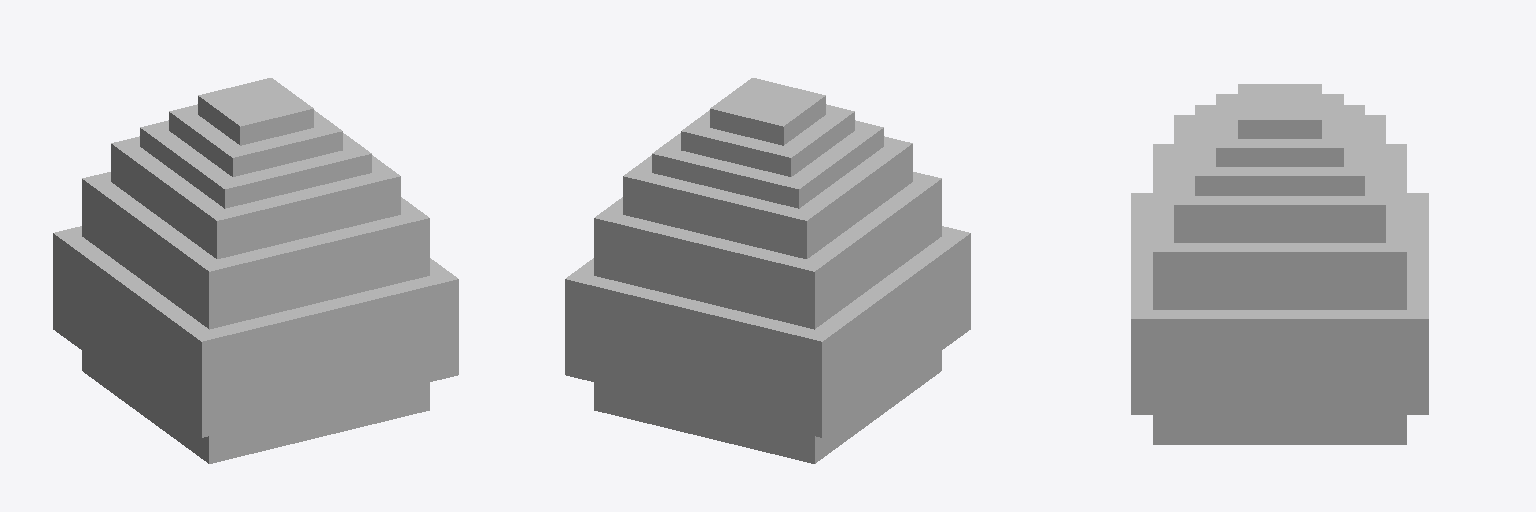
The model's file is egg_incubating.obj.
3 renders of one model, left to right at view 1: azimuth 30°, elevation 25°; view 2: azimuth 150°, elevation 25°; view 3: azimuth 270°, elevation 25°, orthographic.
Parts seen in each view (by area): view 1: dragon_egg; view 2: dragon_egg; view 3: dragon_egg.
Part boxes in pixels (left/top/right/bottom): dragon_egg: left=53, top=78, right=458, bottom=463; dragon_egg: left=565, top=78, right=970, bottom=463; dragon_egg: left=1131, top=84, right=1428, bottom=444.
Bounding box in the file's own units: 0.875 × 1 × 0.875.